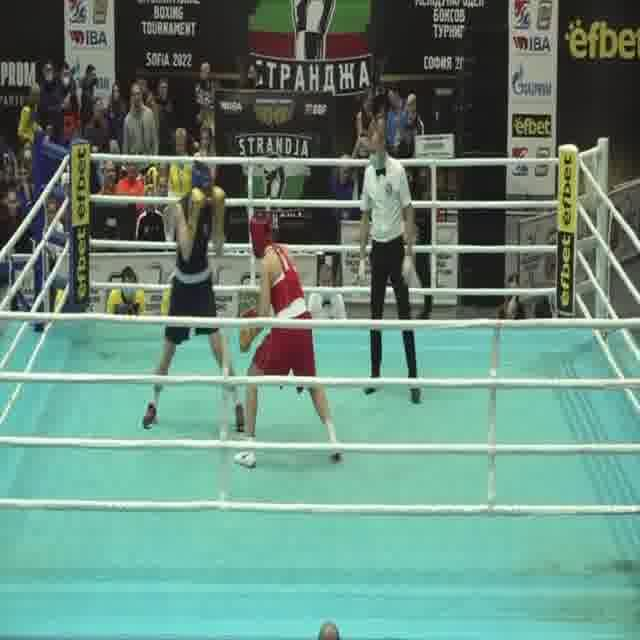blue-player: (139, 160, 252, 437)
red-player: (227, 210, 349, 473)
referee: (356, 127, 425, 406)
